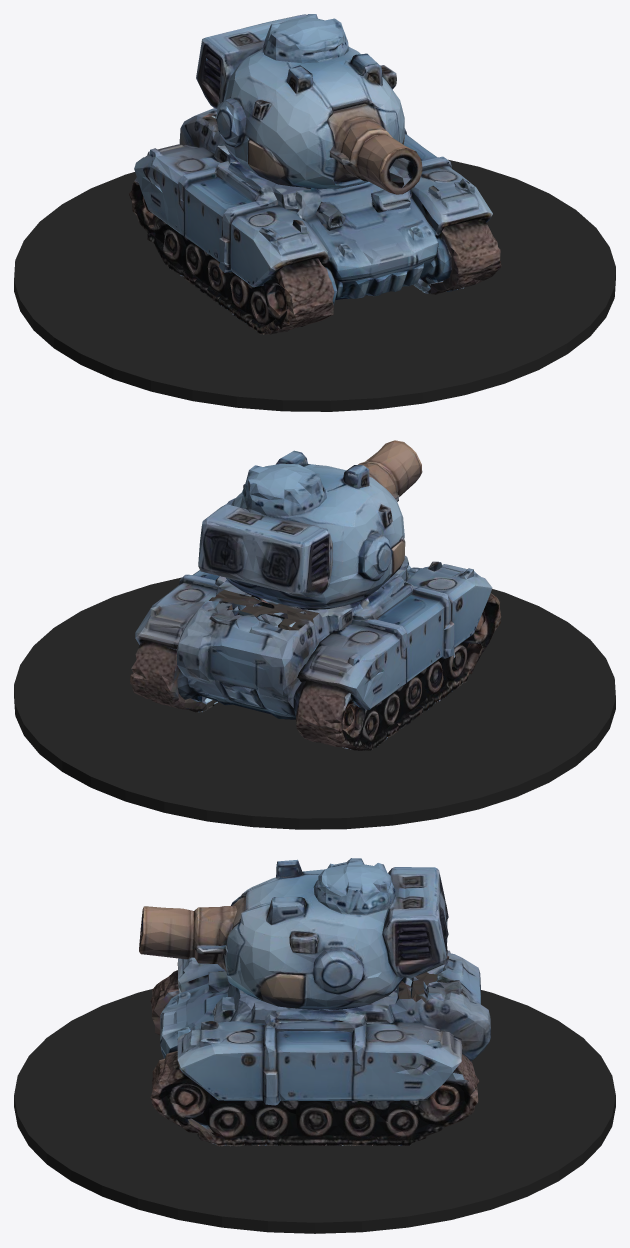
The model's file is siege-tank.glb.
3 renders of one model, top to bottom at view 1: azimuth 30°, elevation 25°; view 2: azimuth 150°, elevation 25°; view 3: azimuth 270°, elevation 25°, orthographic.
Visible parts, largest first — view 1: base, figure; view 2: base, figure; view 3: figure, base.
Part boxes in pixels (x1=…): base: x1=14, y1=159, x2=615, y2=411; figure: x1=129, y1=14, x2=501, y2=334; base: x1=14, y1=577, x2=615, y2=829; figure: x1=130, y1=440, x2=501, y2=750; figure: x1=139, y1=858, x2=490, y2=1146; base: x1=14, y1=989, x2=615, y2=1233.
Bounding box in the file's own units: 5.91 × 2.62 × 5.91.
Materials: 2 (1 with a texture image).
